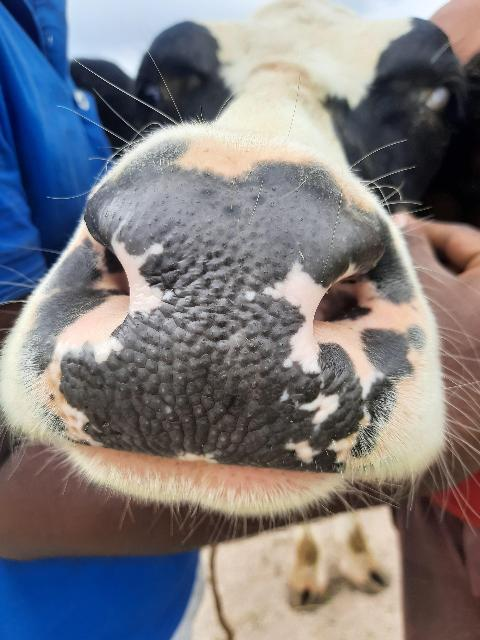Muzzle: (85, 188, 360, 470)
